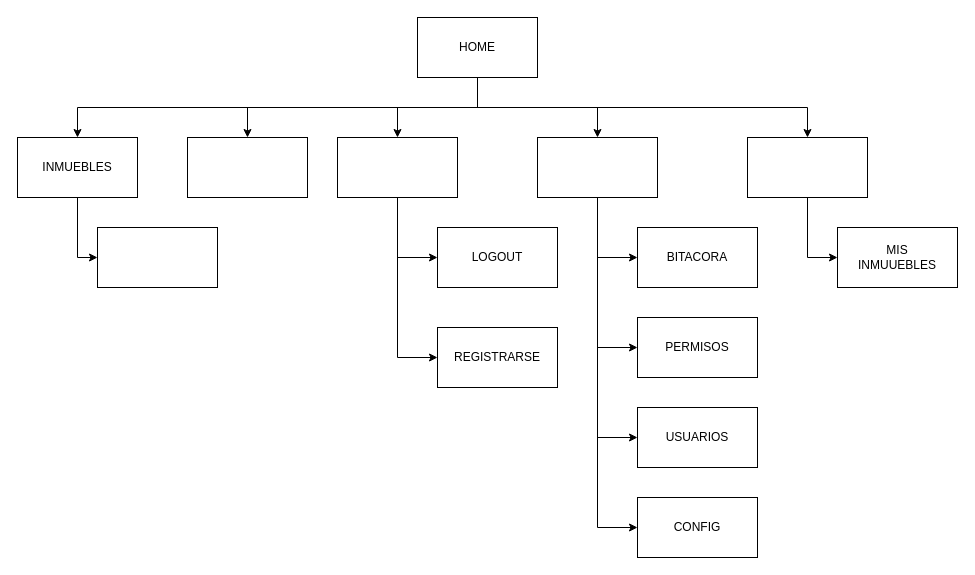
This 975x575 diagram has some shape labels left out. The shapes that lost their labels are listed below. From the top down, each one's centre as x and y in pixels, then its label:
At (247,167): "CONTACTO".
At (397,167): "LOGIN".
At (597,167): "ADMIN".
At (807,167): "USUARIO".
At (157,257): "DETALLE INMUEBLE".
